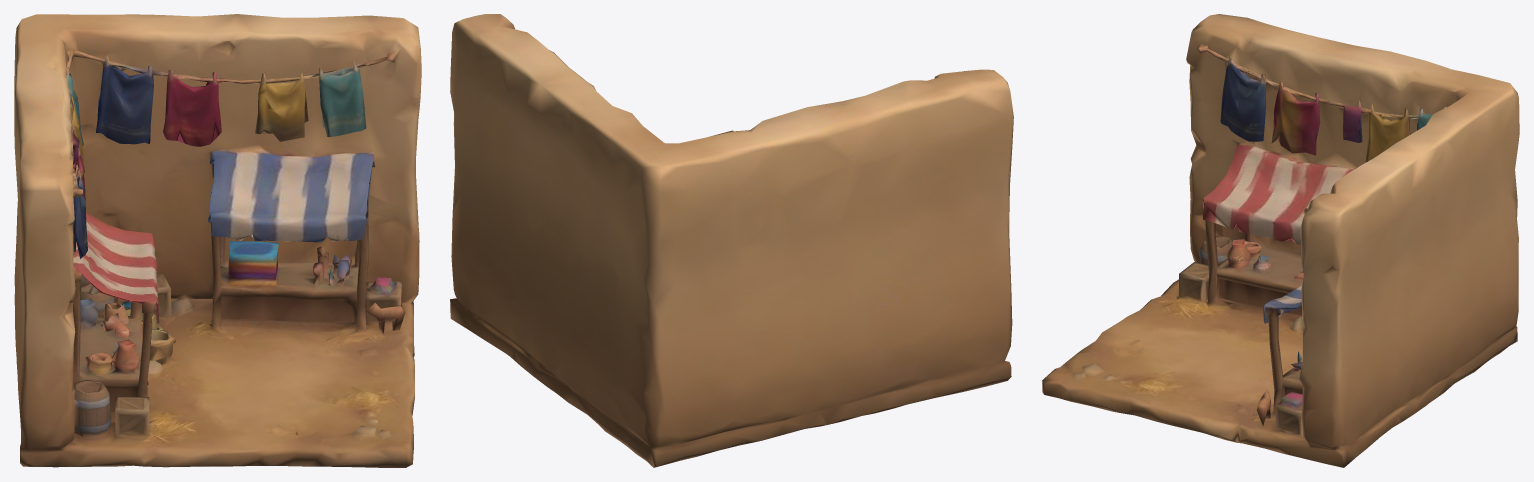
Rendered from craft_market_main.glb.
3 renders of one model, left to right at view 1: azimuth 30°, elevation 25°; view 2: azimuth 150°, elevation 25°; view 3: azimuth 270°, elevation 25°, orthographic. The views are drawn at different scales.
Parts seen in each view (by area): view 1: tripo_node_d881d375-82f0-4e8b-ba59-bf37c475a1fb; view 2: tripo_node_d881d375-82f0-4e8b-ba59-bf37c475a1fb; view 3: tripo_node_d881d375-82f0-4e8b-ba59-bf37c475a1fb.
Boxes of the visible parts, x1,y1,x2,y2 form: tripo_node_d881d375-82f0-4e8b-ba59-bf37c475a1fb: [14, 14, 421, 467]; tripo_node_d881d375-82f0-4e8b-ba59-bf37c475a1fb: [450, 14, 1013, 467]; tripo_node_d881d375-82f0-4e8b-ba59-bf37c475a1fb: [1042, 14, 1519, 467].
Size of the model in its own units: 1 by 0.5943 by 0.9917.
1 material, 1 textured.
